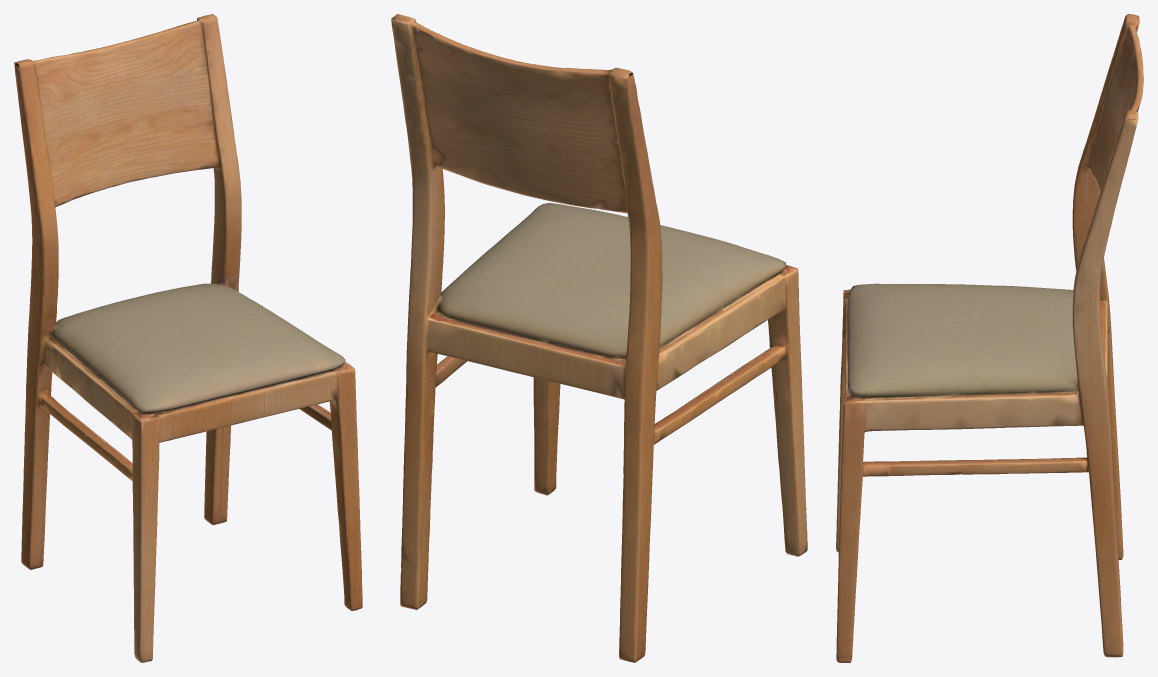
File: silla.glb
3 renders of one model, left to right at view 1: azimuth 30°, elevation 25°; view 2: azimuth 150°, elevation 25°; view 3: azimuth 270°, elevation 25°, orthographic. The views are drawn at different scales.
Size of the model in its own units: 0.936 by 2 by 1.03.
Materials: 1 (1 with a texture image).
